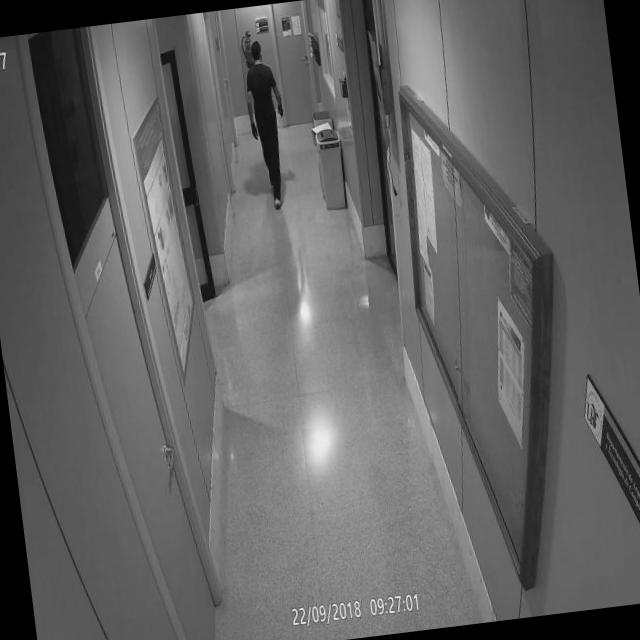person: (236, 32, 298, 218)
